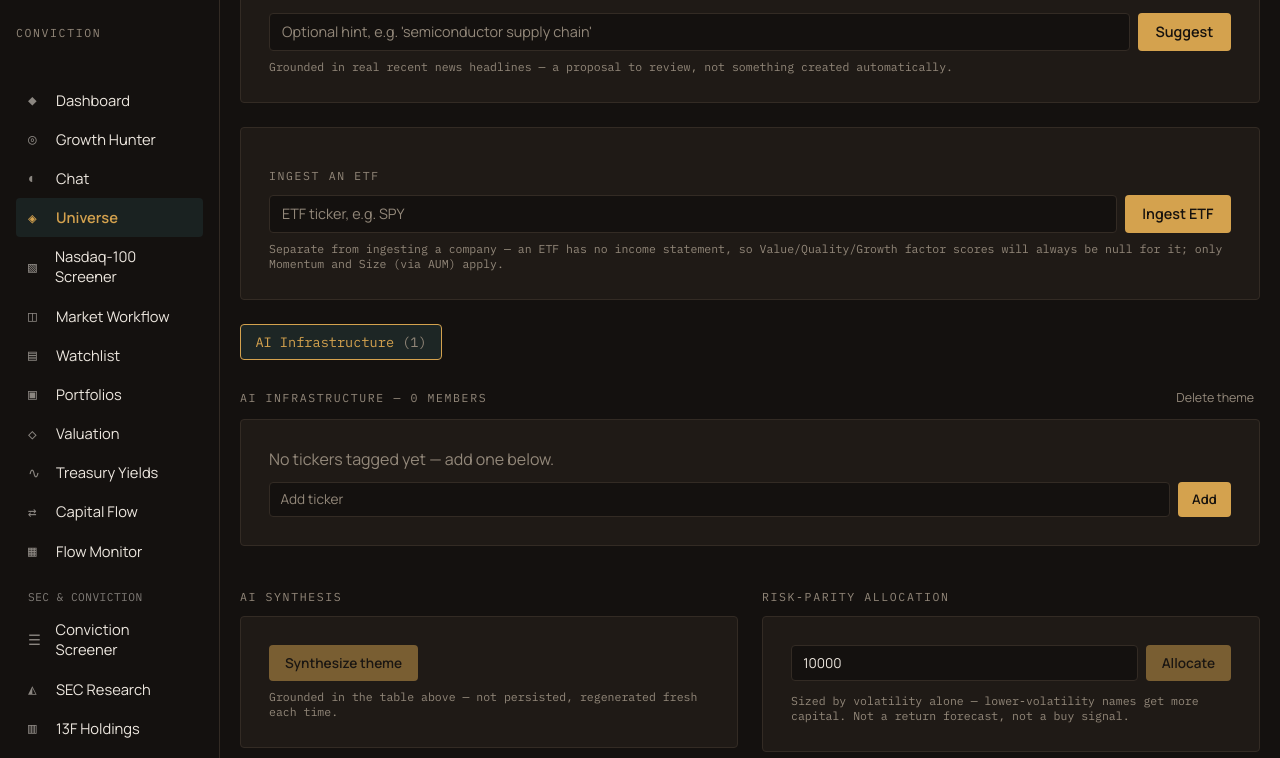
Scenario: Universe — delete theme › clicking Cancel backs out without deleting anything
(page scrolled)
Click the button "Delete theme" at (1215, 398), box [1170,388,1260,407]
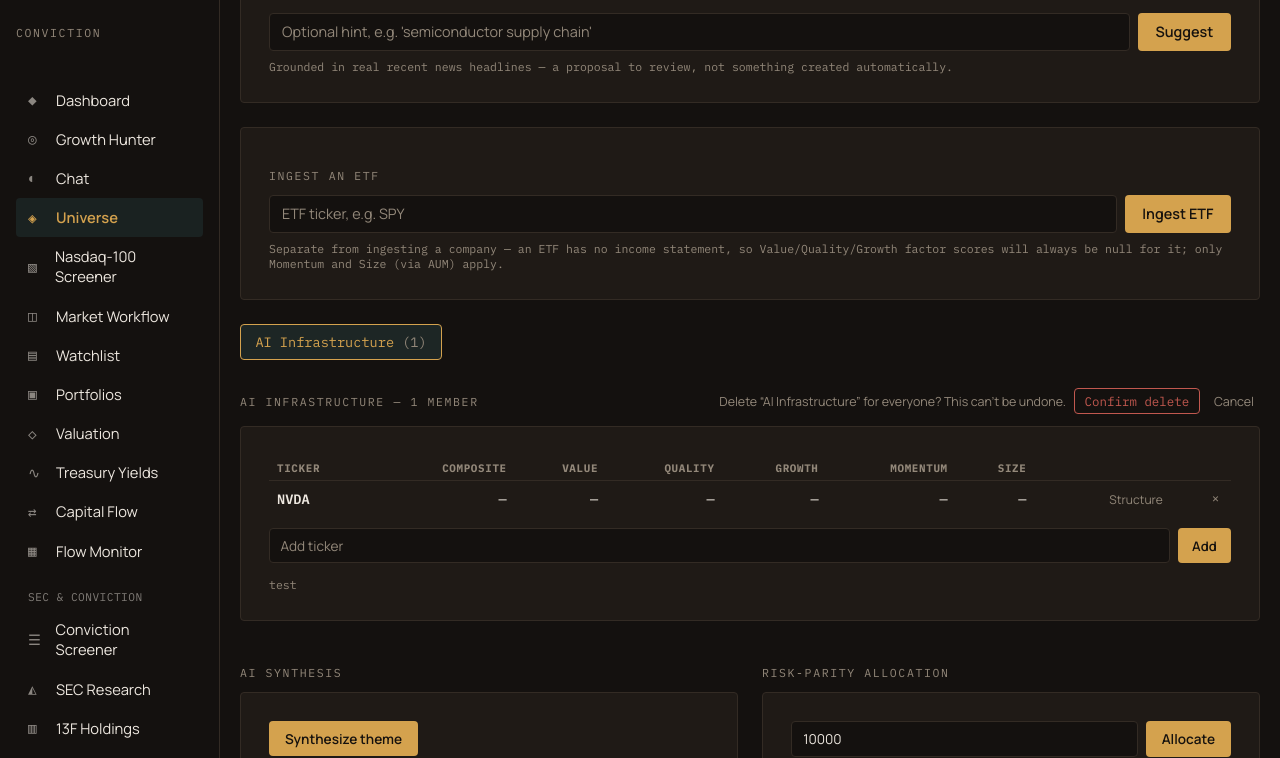
Now the button "Cancel" is shown
Click the button "Cancel" at (1234, 401), box [1208,392,1260,411]
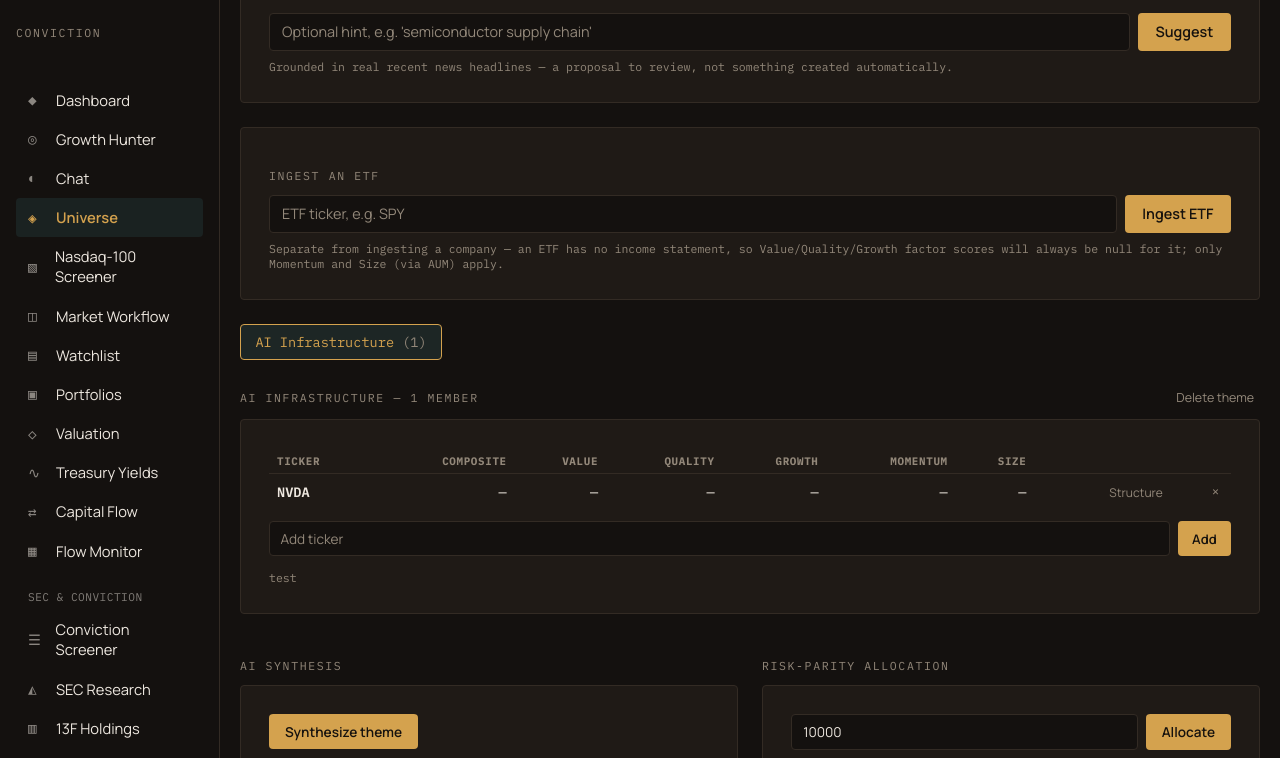
Now the button "Delete theme" is shown, box [1170,388,1260,407]
